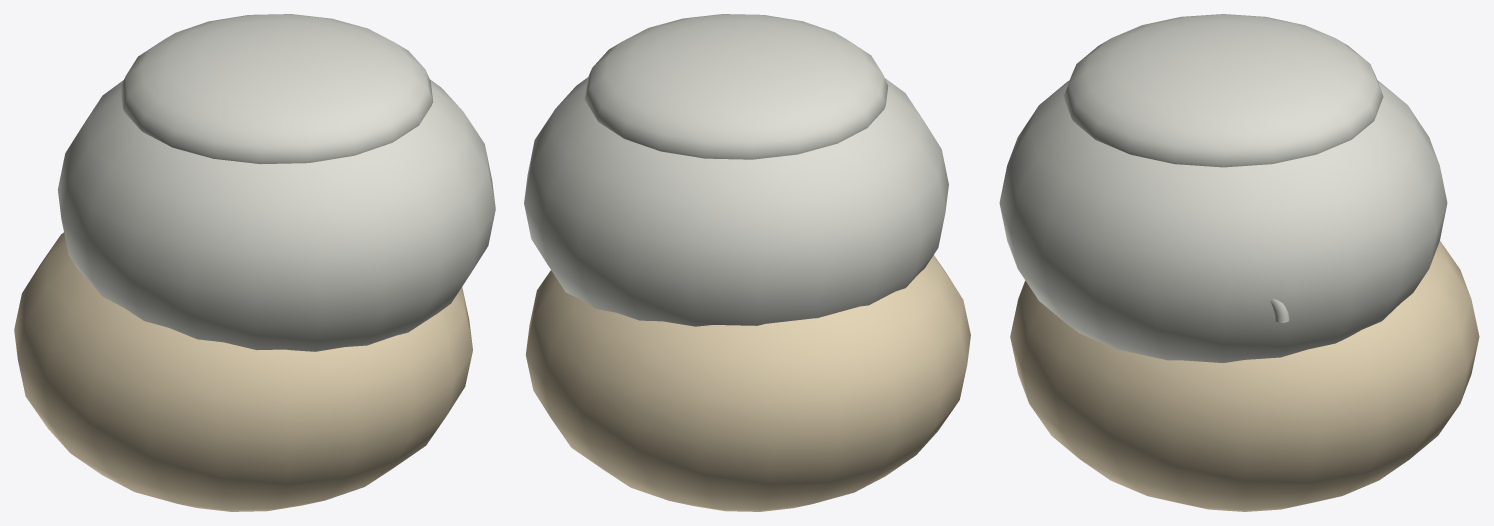
File: game_beanbag_chairs.glb
The picture shows the model from 3 angles, left to right: view 1: azimuth 30°, elevation 25°; view 2: azimuth 150°, elevation 25°; view 3: azimuth 270°, elevation 25°; orthographic projection. The views are drawn at different scales.
Visible parts, largest first — view 1: Tint.048, Beanbag base; view 2: Tint.048, Beanbag base; view 3: Tint.048, Beanbag base.
Boxes of the visible parts, x1=… form: Tint.048: x1=58, y1=14, x2=495, y2=351; Beanbag base: x1=14, y1=232, x2=472, y2=511; Tint.048: x1=524, y1=14, x2=948, y2=326; Beanbag base: x1=525, y1=255, x2=970, y2=511; Tint.048: x1=999, y1=14, x2=1447, y2=362; Beanbag base: x1=1010, y1=241, x2=1479, y2=511.
Size of the model in its own units: 0.91 by 0.92 by 0.9.
